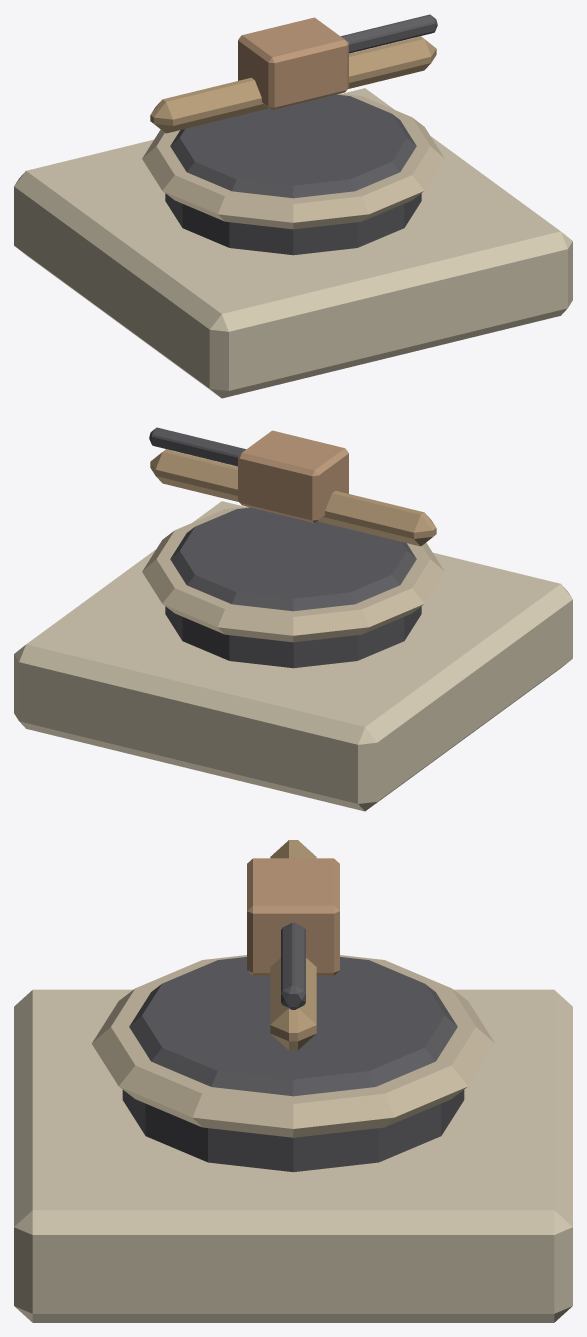
The model's file is tunnel_network.glb.
3 views of the same model, one above another, from view 1: azimuth 30°, elevation 25°; view 2: azimuth 150°, elevation 25°; view 3: azimuth 270°, elevation 25° (orthographic). The views are drawn at different scales.
Parts seen in each view (by area): view 1: Hull, Turret; view 2: Hull, Turret; view 3: Hull, Turret.
Boxes of the visible parts, left/top/right/bottom form: Hull: left=14, top=36, right=572, bottom=398; Turret: left=238, top=14, right=437, bottom=109; Hull: left=14, top=449, right=572, bottom=811; Turret: left=149, top=427, right=348, bottom=522; Hull: left=14, top=840, right=572, bottom=1322; Turret: left=247, top=858, right=339, bottom=1009.
Bounding box in the file's own units: 1.8 × 1.17 × 1.8.
